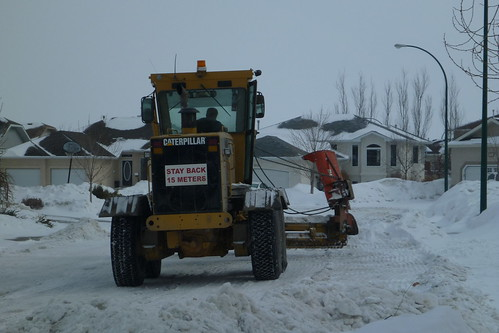building: (258, 112, 429, 189), (1, 125, 149, 192)
light pole: (397, 43, 449, 197)
sky: (1, 1, 487, 111)
tractor: (108, 64, 283, 288)
